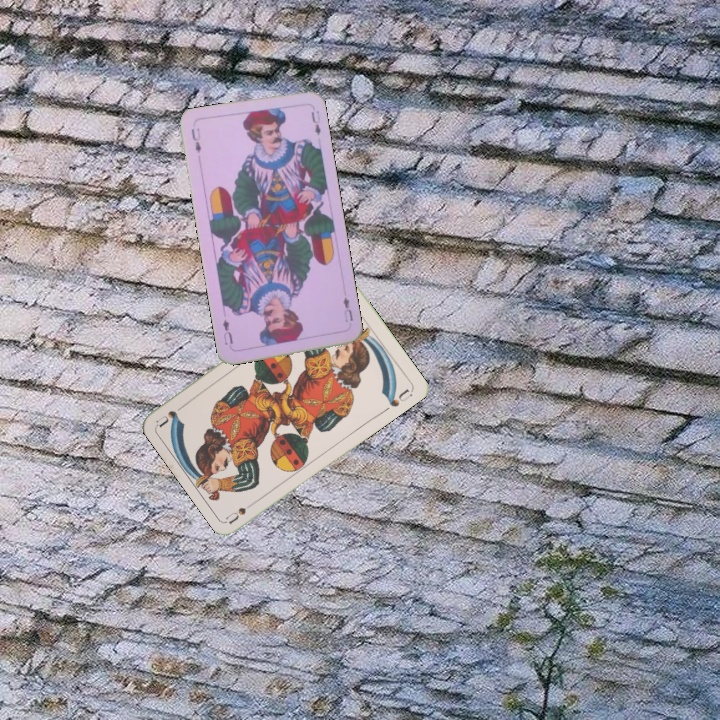EU: (339, 293, 356, 324), (187, 124, 204, 155)
SU: (223, 496, 260, 526)
